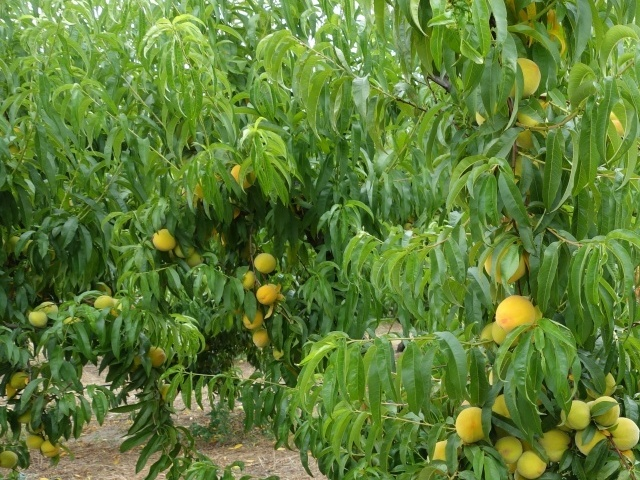peach: (480, 245, 530, 291), (492, 292, 541, 337), (453, 403, 495, 444), (512, 54, 545, 100), (479, 315, 519, 351), (604, 412, 640, 452), (539, 427, 575, 462), (588, 392, 623, 427), (557, 398, 594, 431), (492, 431, 528, 464), (516, 446, 550, 479), (569, 426, 607, 455), (148, 226, 179, 254), (254, 282, 283, 308), (252, 251, 281, 276), (248, 323, 274, 349), (241, 307, 268, 331), (143, 344, 171, 367), (92, 292, 118, 315), (8, 367, 31, 391), (1, 447, 22, 472), (35, 297, 61, 317), (26, 308, 48, 328), (40, 439, 62, 459), (24, 431, 46, 450)
